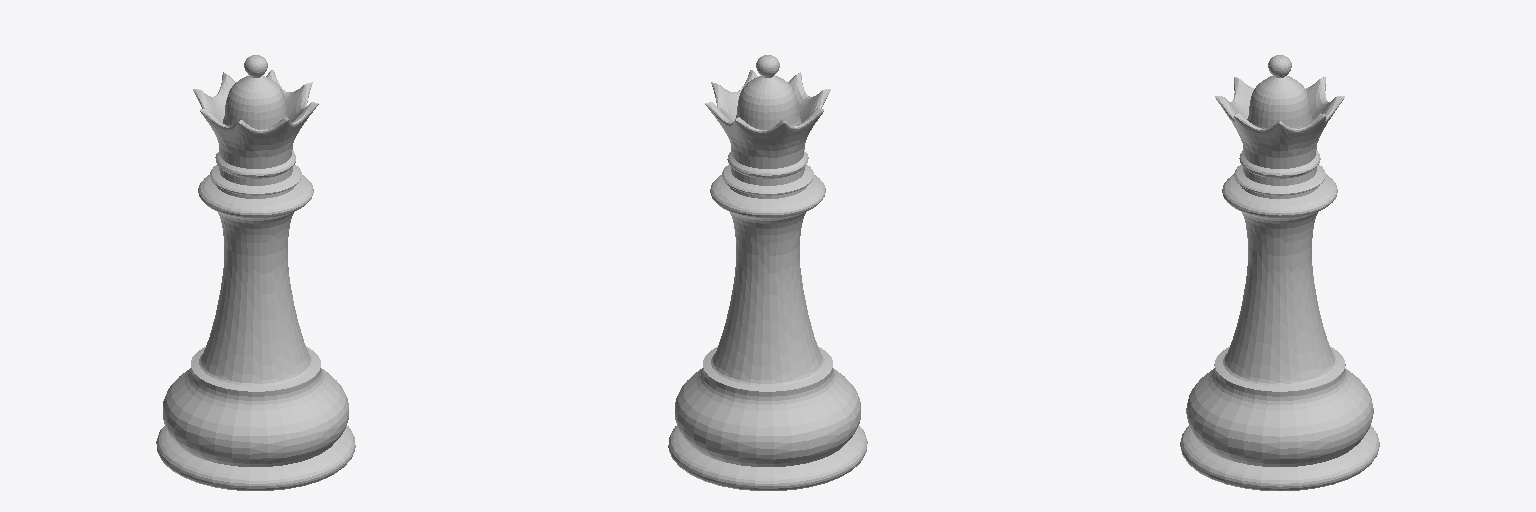
File: queen.obj
3 renders of one model, left to right at view 1: azimuth 30°, elevation 25°; view 2: azimuth 150°, elevation 25°; view 3: azimuth 270°, elevation 25°, orthographic.
Visible parts, largest first — view 1: queen; view 2: queen; view 3: queen.
Part boxes in pixels (x1,y1,x2,y2): queen: (156,55,355,490); queen: (668,55,867,490); queen: (1180,55,1379,490).
Size of the model in its own units: 1.13 by 2.49 by 1.13.